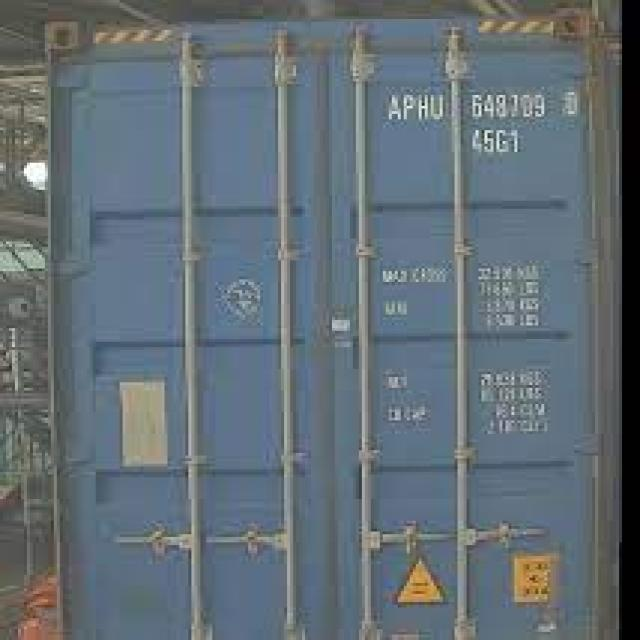ISO: (472, 128, 524, 154)
container_number: (394, 94, 572, 122)
